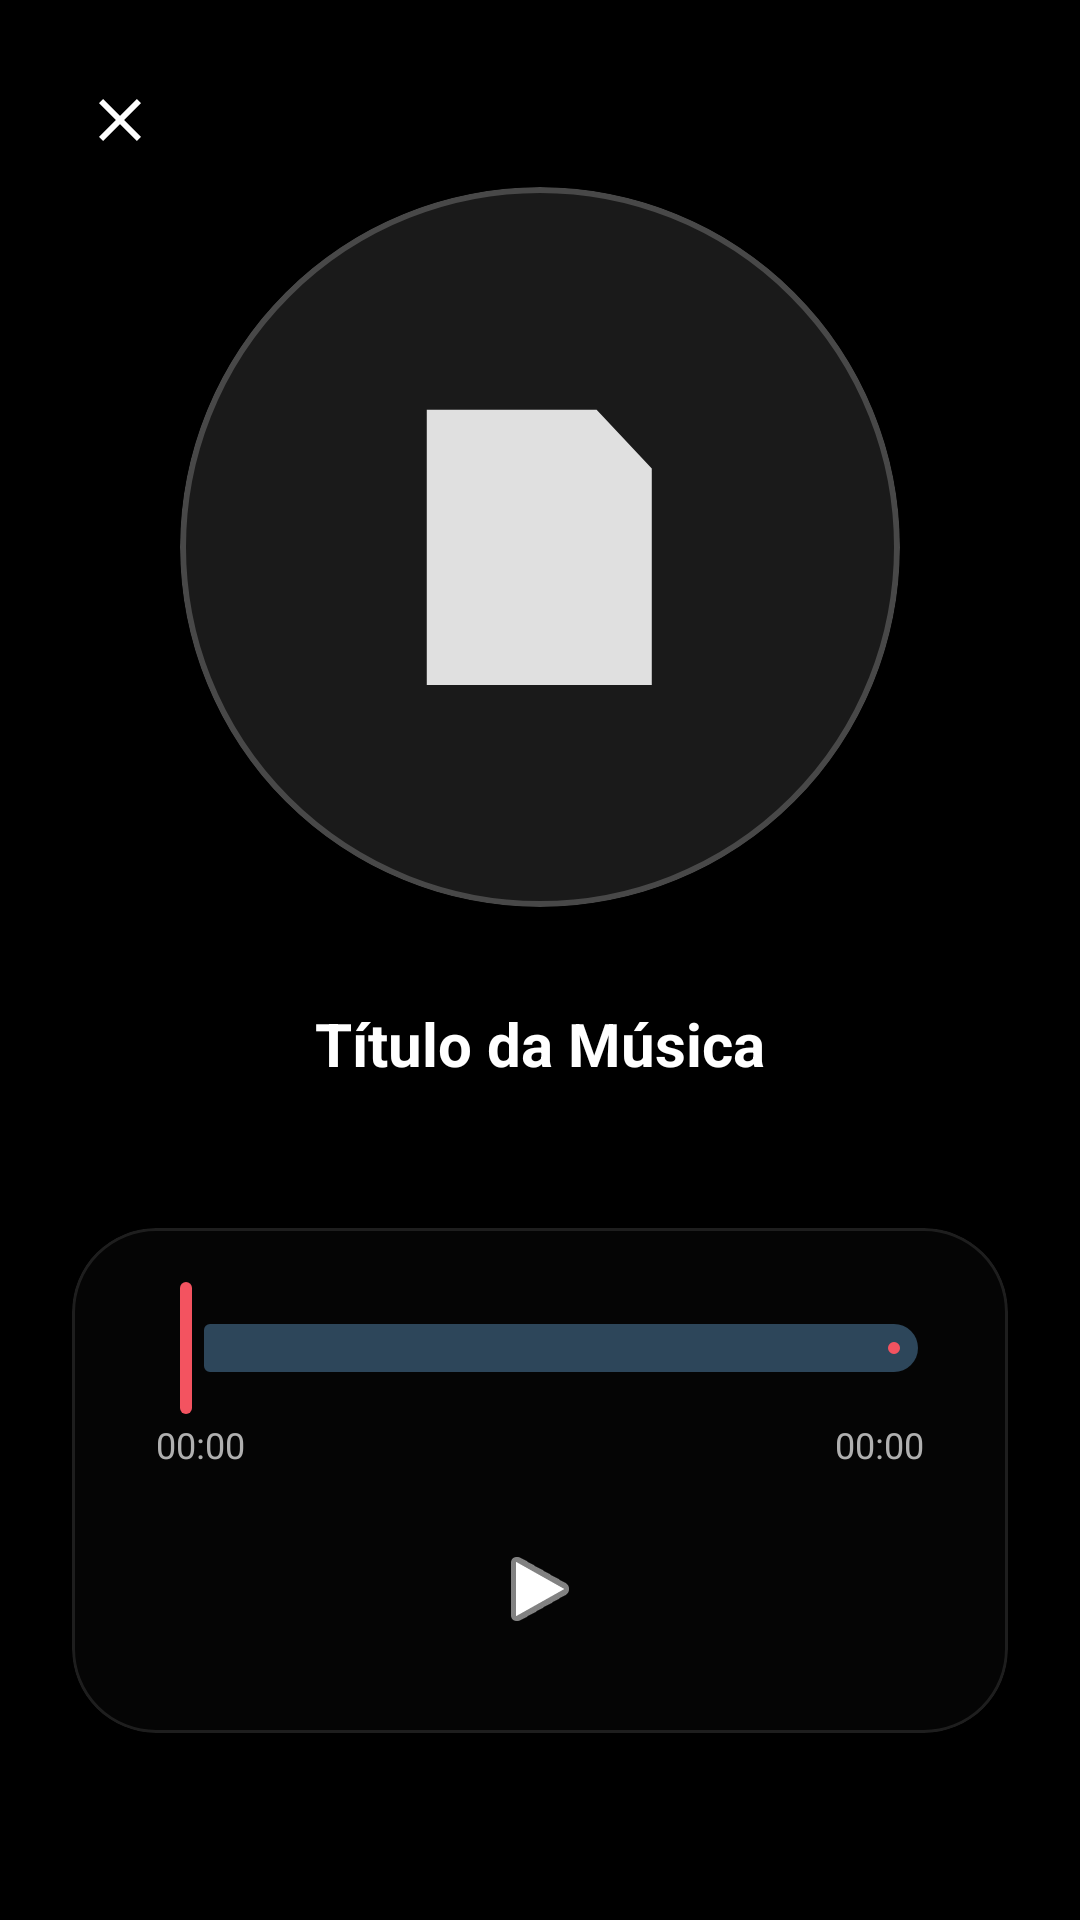

Screen size 1080x1920. Icon name, then its center in pixels as (x,y):
close: (120,120)
play: (540,1589)
